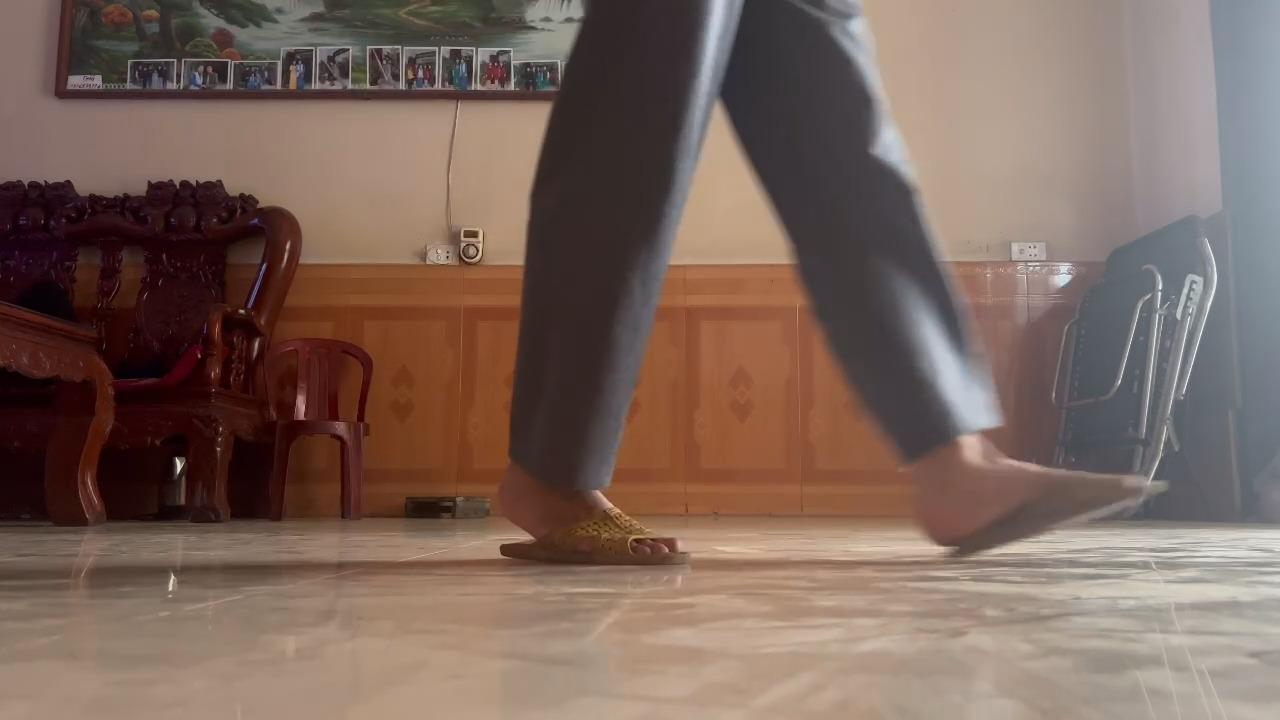no-boot: (895, 465, 1179, 568), (486, 482, 697, 575)
